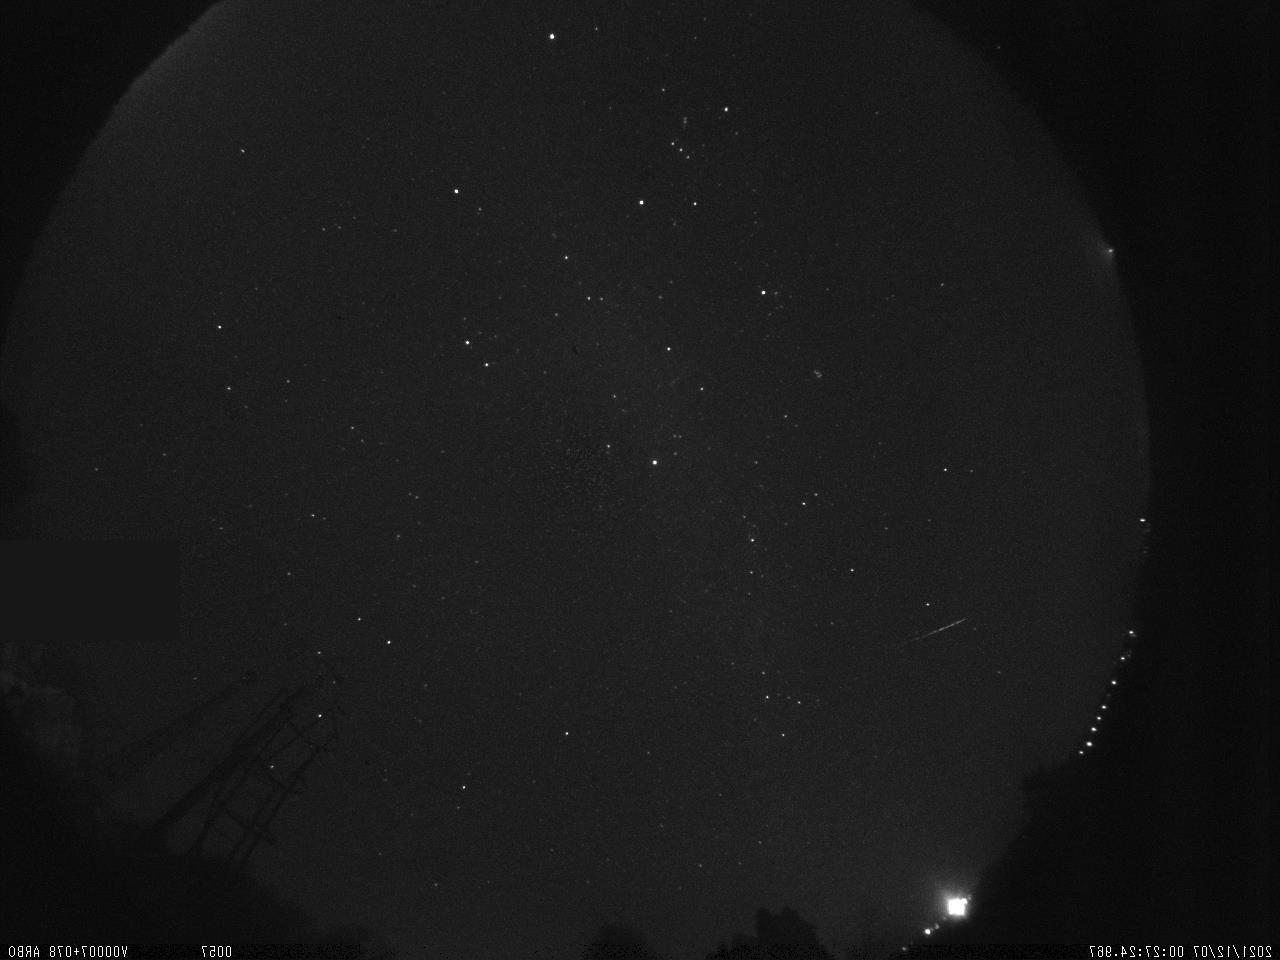meteor: (909, 608, 965, 664)
